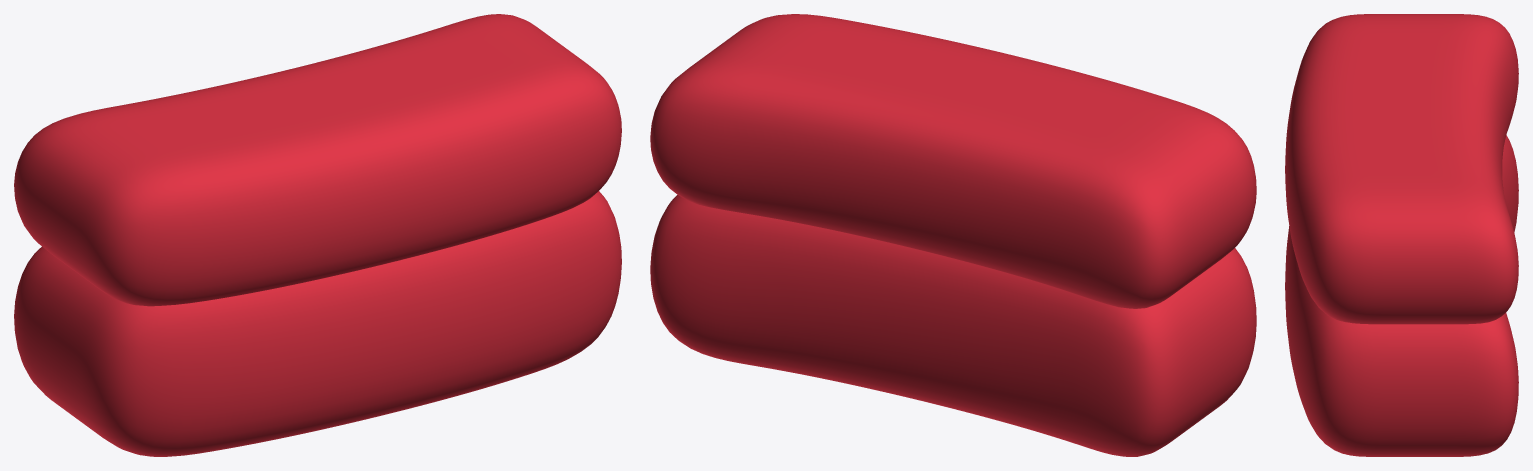
The model's file is BOCA_1_M.glb.
3 renders of one model, left to right at view 1: azimuth 30°, elevation 25°; view 2: azimuth 150°, elevation 25°; view 3: azimuth 270°, elevation 25°, orthographic. The views are drawn at different scales.
Parts seen in each view (by area): view 1: BOCA_M.002, BOCA_M.001; view 2: BOCA_M.002, BOCA_M.001; view 3: BOCA_M.002, BOCA_M.001.
Part boxes in pixels (left/top/right/bottom): BOCA_M.002: left=14, top=14, right=621, bottom=306; BOCA_M.001: left=14, top=191, right=621, bottom=456; BOCA_M.002: left=650, top=14, right=1256, bottom=308; BOCA_M.001: left=650, top=195, right=1256, bottom=456; BOCA_M.002: left=1285, top=14, right=1518, bottom=324; BOCA_M.001: left=1285, top=135, right=1518, bottom=456.
Bounding box in the file's own units: 0.1615 × 0.0863 × 0.07.
